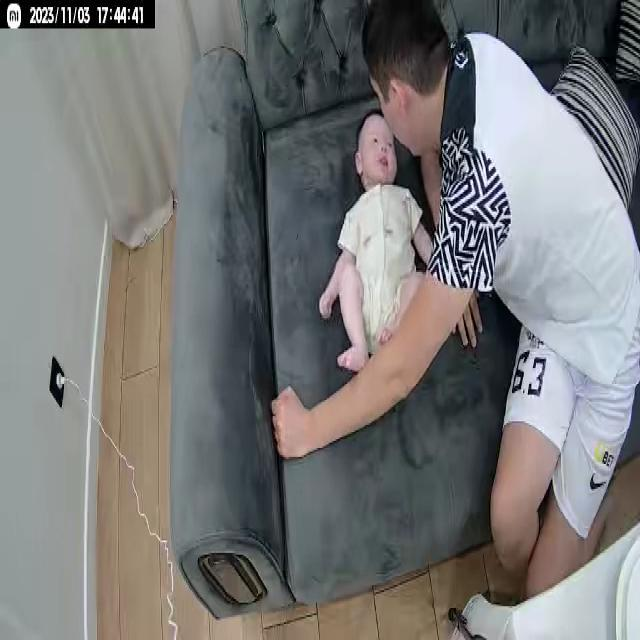baby: (318, 105, 438, 382)
